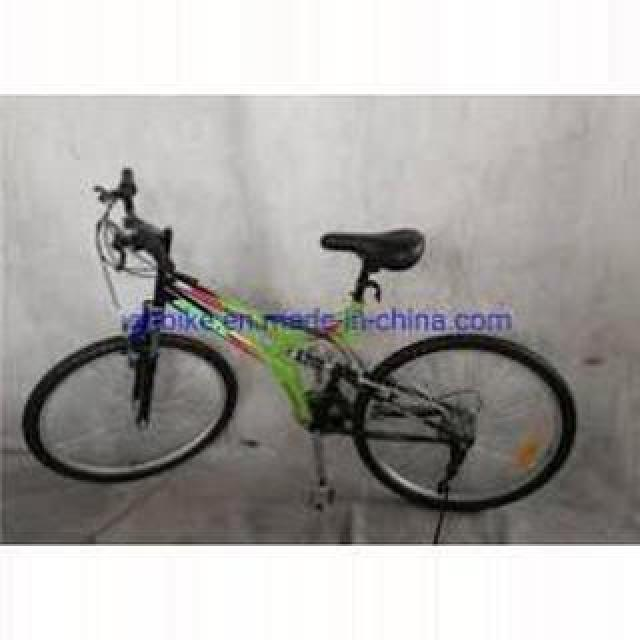Person: (20, 162, 582, 510)
